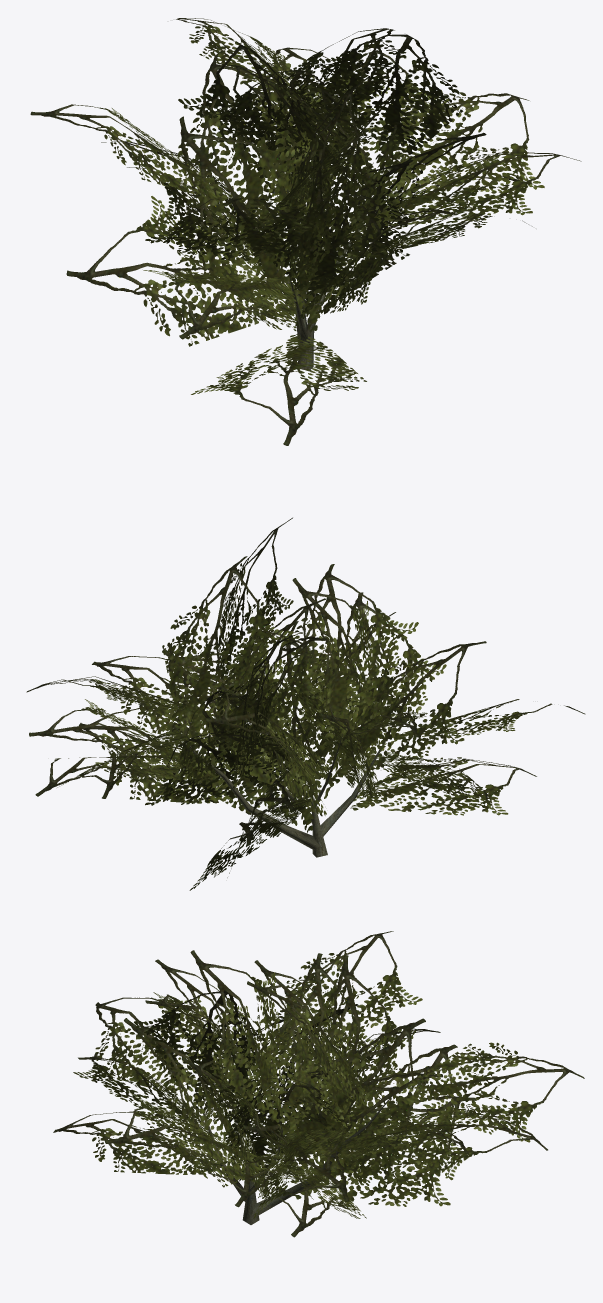
The model's file is bush8.glb.
3 views of the same model, one above another, from view 1: azimuth 30°, elevation 25°; view 2: azimuth 150°, elevation 25°; view 3: azimuth 270°, elevation 25° (orthographic). The views are drawn at different scales.
Parts seen in each view (by area): view 1: Bush8; view 2: Bush8; view 3: Bush8.
Part boxes in pixels (x1,y1,x2,y2): Bush8: (30,18,581,445); Bush8: (26,517,585,890); Bush8: (53,931,584,1237).
Bounding box in the file's own units: 11.23 × 7.16 × 12.19.
Materials: 2 (2 with a texture image).
